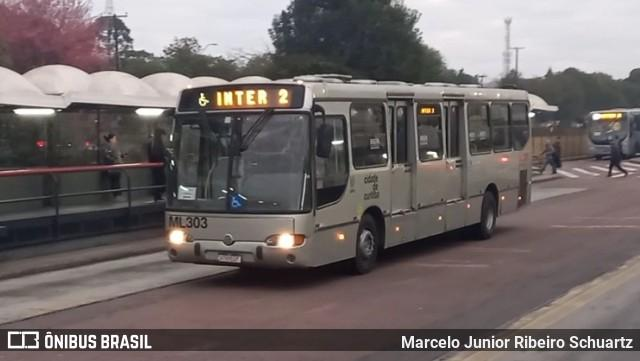INTER2: (211, 86, 292, 109)
